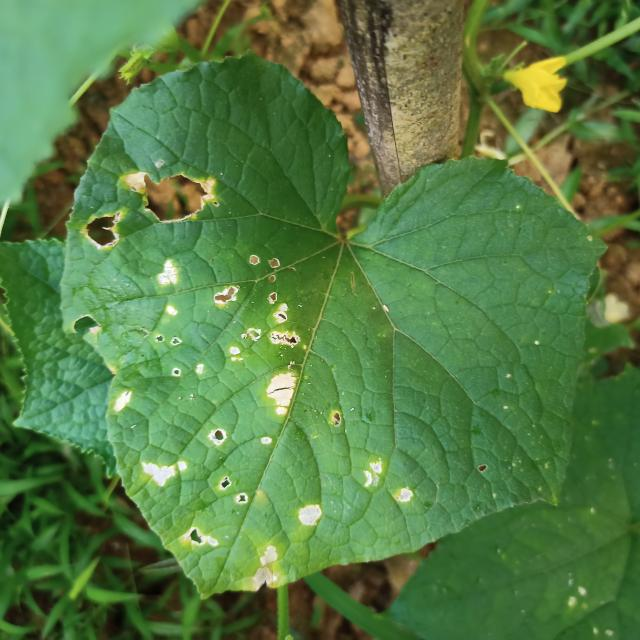disease_cucumber: (215, 253, 306, 349), (121, 168, 224, 226), (362, 457, 418, 507), (264, 366, 302, 423), (80, 213, 128, 254), (138, 456, 192, 489), (253, 545, 277, 592), (218, 477, 252, 508), (153, 255, 181, 289), (184, 524, 218, 552), (112, 389, 138, 417), (298, 500, 322, 528), (209, 427, 232, 444)
